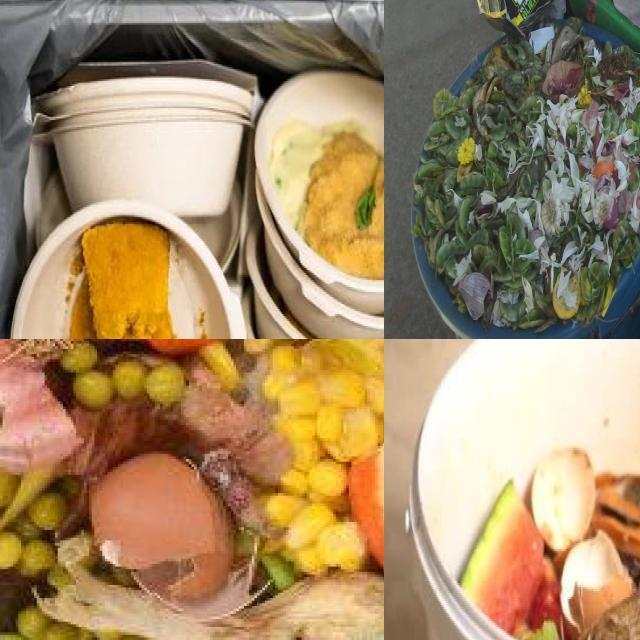Disposable: (243, 73, 384, 339), (11, 202, 244, 339), (36, 77, 253, 216)
Garbage: (0, 339, 384, 640), (0, 65, 384, 339), (414, 0, 640, 331), (456, 439, 640, 640)
contaminated_waste: (11, 202, 244, 339)
